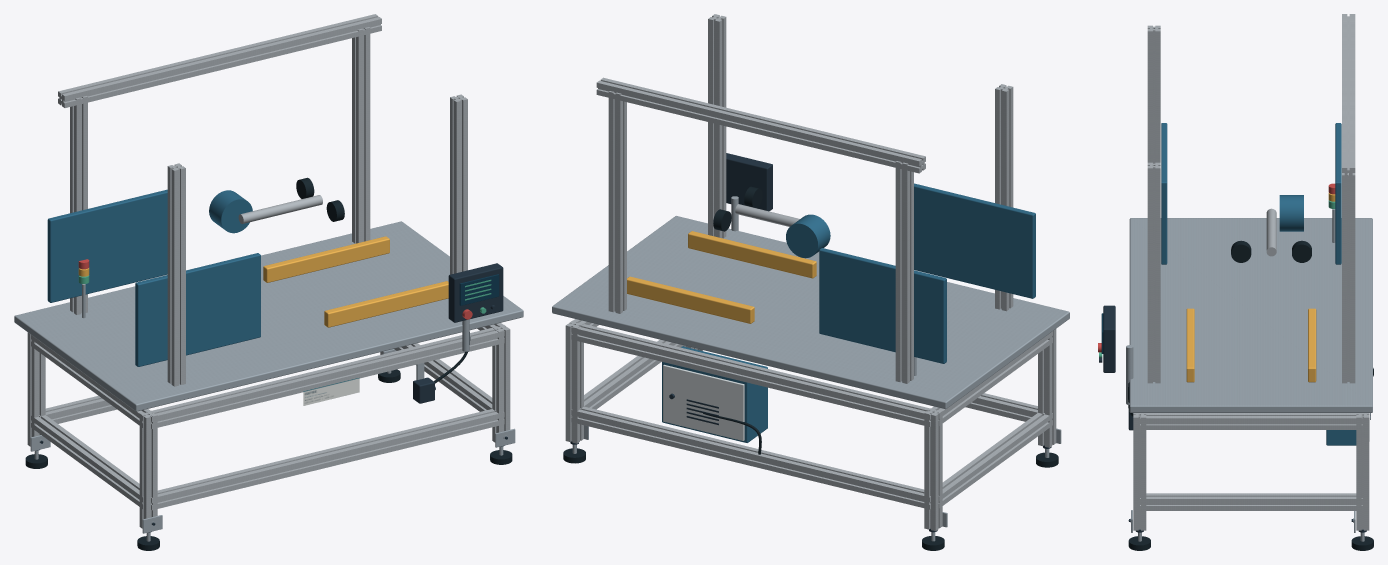
File: carton-erector.glb
3 views of the same model, side by side, from view 1: azimuth 30°, elevation 25°; view 2: azimuth 150°, elevation 25°; view 3: azimuth 270°, elevation 25° (orthographic). The views are drawn at different scales.
Visible parts, largest first — view 1: Worktop_49, BlankMagazine_55, BlankMagazine_56, Extrusion_34, Extrusion_35, Extrusion_54, Extrusion_51, Extrusion_52, Extrusion_53, Extrusion_36, LowerFlapGuide_61, LowerFlapGuide_62 (+12 smaller); view 2: Worktop_49, BlankMagazine_56, BlankMagazine_55, Extrusion_33, Extrusion_32, Extrusion_54, BackAccessDoor_41, Extrusion_52, Extrusion_50, Extrusion_53, Extrusion_51, Extrusion_36 (+12 smaller); view 3: Worktop_49, Extrusion_38, Extrusion_39, Extrusion_53, Extrusion_52, Extrusion_54, Extrusion_51, Extrusion_19, Extrusion_27, BlankMagazine_55, BlankMagazine_56, ArmDrive_60 (+7 smaller).
Part boxes in pixels (x1,y1,x2,y2): Worktop_49: (14,221,523,411); BlankMagazine_55: (47,189,167,302); BlankMagazine_56: (135,253,260,366); Extrusion_34: (151,409,504,510); Extrusion_35: (145,326,504,428); Extrusion_54: (58,14,381,107); Extrusion_51: (167,163,185,386); Extrusion_52: (352,27,370,243); Extrusion_53: (450,94,467,274); Extrusion_36: (31,415,143,509); LowerFlapGuide_61: (263,236,389,282); LowerFlapGuide_62: (324,281,448,327); Worktop_49: (552,216,1069,409); BlankMagazine_56: (914,183,1035,298); BlankMagazine_55: (819,248,946,363); Extrusion_33: (571,322,936,426); Extrusion_32: (571,406,930,509); Extrusion_54: (596,77,925,173); BackAccessDoor_41: (663,364,744,440); Extrusion_52: (608,91,626,313); Extrusion_50: (895,161,913,383); Extrusion_53: (708,14,726,238); Extrusion_51: (995,84,1013,311); Extrusion_36: (938,413,1052,508); Worktop_49: (1129,218,1372,412); Extrusion_38: (1140,493,1362,510); Extrusion_39: (1140,413,1362,429); Extrusion_53: (1147,162,1160,383); Extrusion_52: (1342,177,1355,383); Extrusion_54: (1342,14,1355,179); Extrusion_51: (1147,25,1160,163); Extrusion_19: (1356,413,1369,530); Extrusion_27: (1133,413,1146,530); BlankMagazine_55: (1335,123,1341,264); BlankMagazine_56: (1161,123,1167,264); ArmDrive_60: (1279,195,1303,231).
Size of the model in its own units: 2.2 by 2.01 by 1.36.
Materials: 11 (3 with a texture image).
